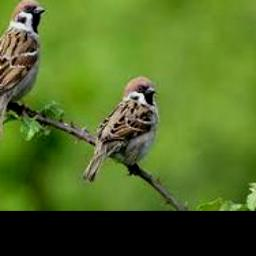Sparrow: (83, 76, 158, 182), (0, 0, 44, 142)
